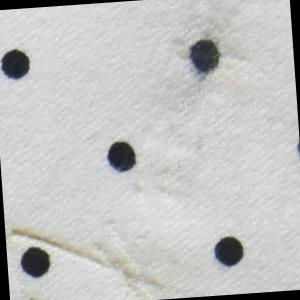Oil Stain: (7, 215, 167, 300)
